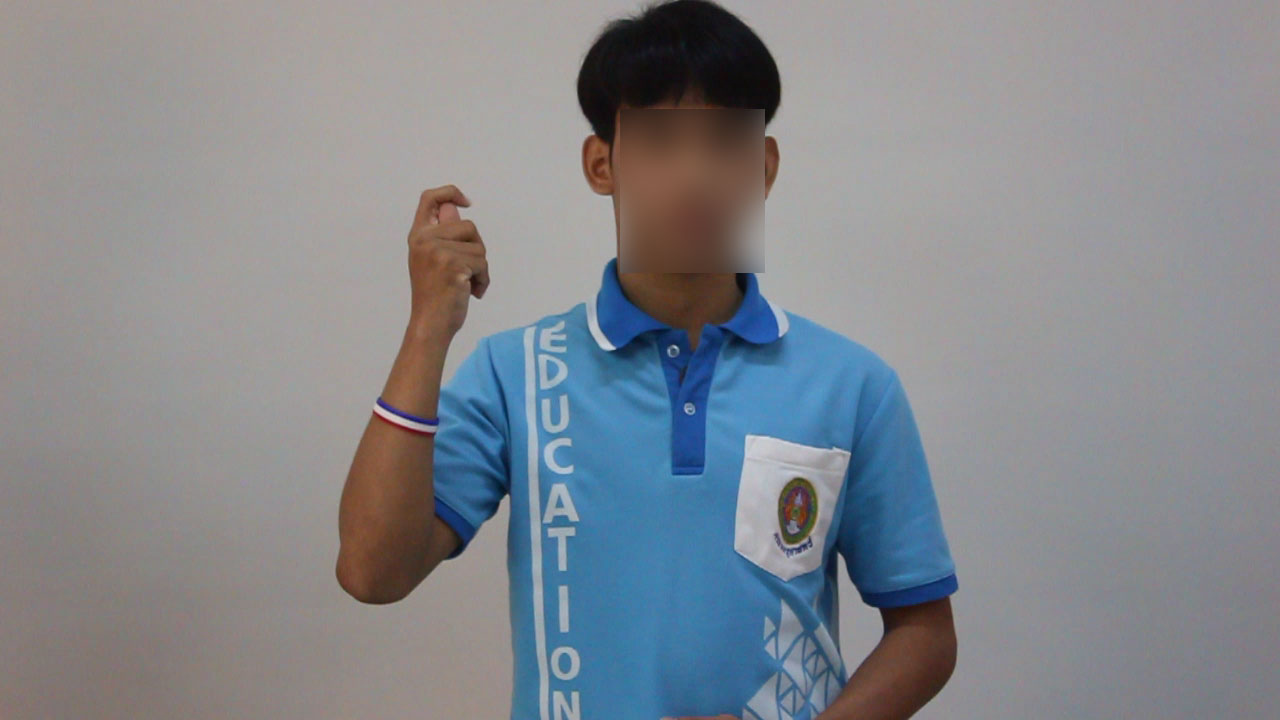or: (398, 180, 498, 338)
